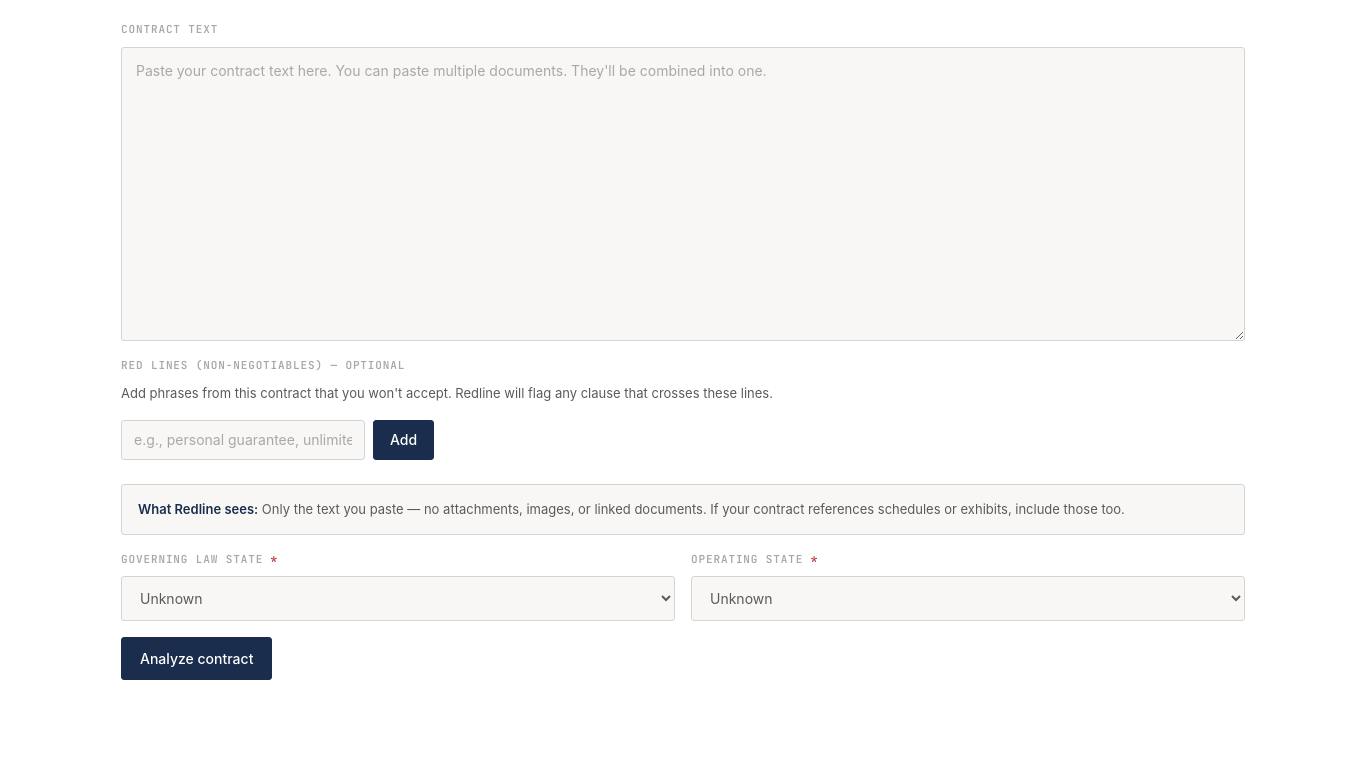
Test: Document Intake (Paste) › should reject empty input with an error message
The width and height of the screenshot is (1366, 768).
(page scrolled)
Step 1. Click the button "Analyze contract" → (197,659), box [121, 637, 272, 680]
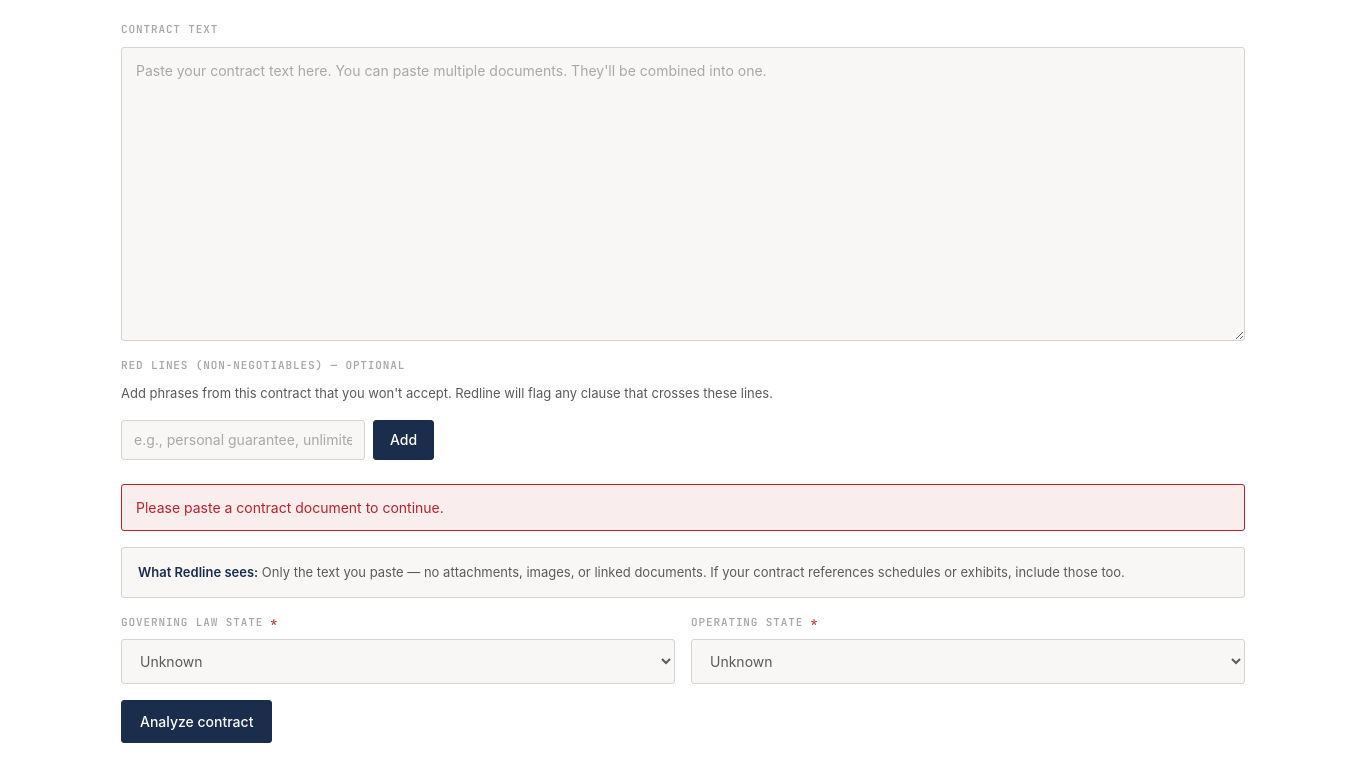
Expected: the text "Please paste a contract document to continue." is shown, [121, 484, 1245, 531]
